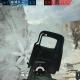Character: (73, 25, 80, 50)
Head: (79, 25, 80, 29)
